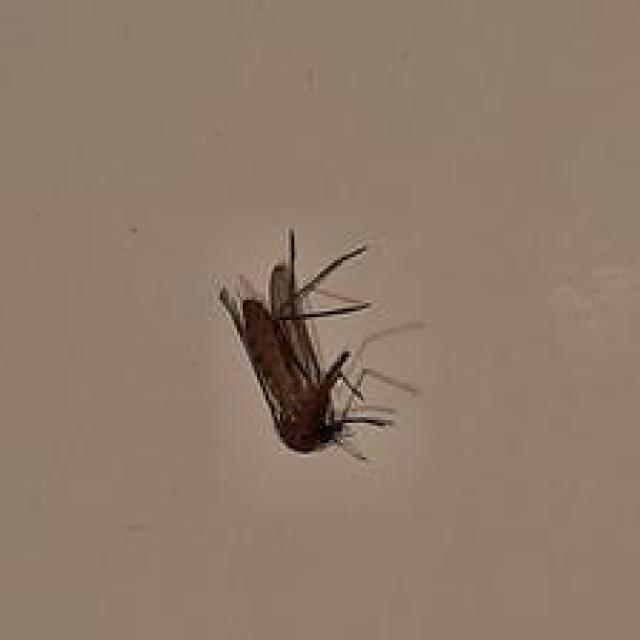Culex: (217, 227, 426, 464)
